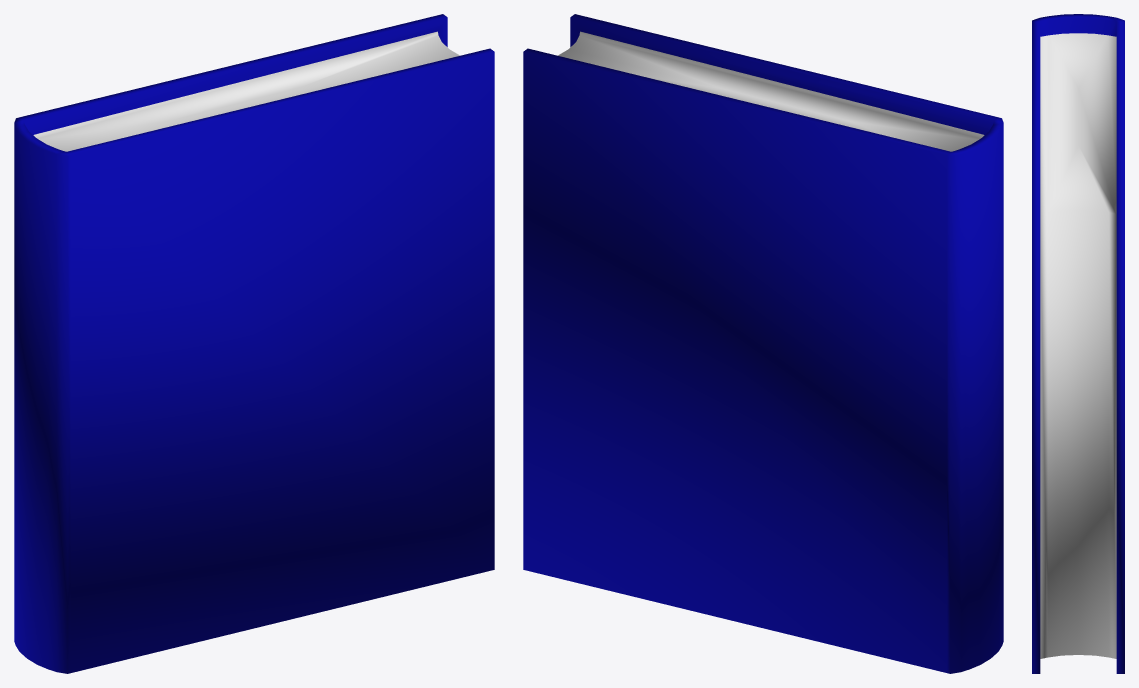
The model's file is Book.fbx.
3 renders of one model, left to right at view 1: azimuth 30°, elevation 25°; view 2: azimuth 150°, elevation 25°; view 3: azimuth 270°, elevation 25°, orthographic. The views are drawn at different scales.
Parts seen in each view (by area): view 1: book; view 2: book; view 3: book.
Boxes of the visible parts, box(x1,y1,x2,y2) form: book: box(14, 14, 494, 673); book: box(523, 14, 1003, 673); book: box(1032, 14, 1124, 673).
Size of the model in its own units: 2.49 by 2.79 by 0.5035.
